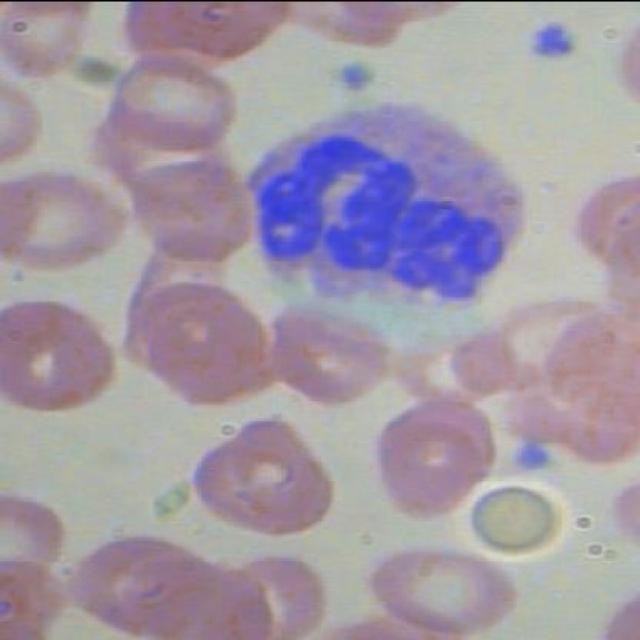Platelets: (331, 59, 384, 98), (524, 20, 576, 58), (511, 440, 555, 471)
WBC: (234, 97, 529, 326)
